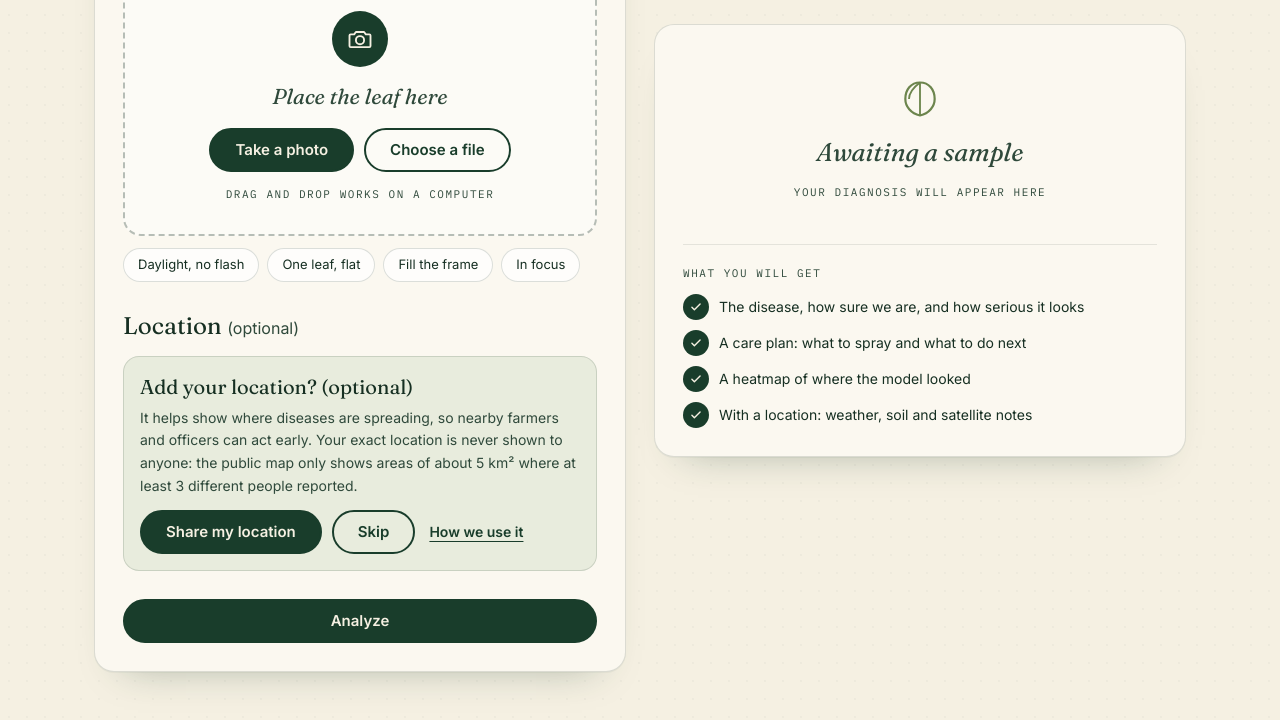
Scenario: Predict page › asks for a photo before analysing
(page scrolled)
Click the button "Analyze" at x=360, y=620, box [123,598,597,642]
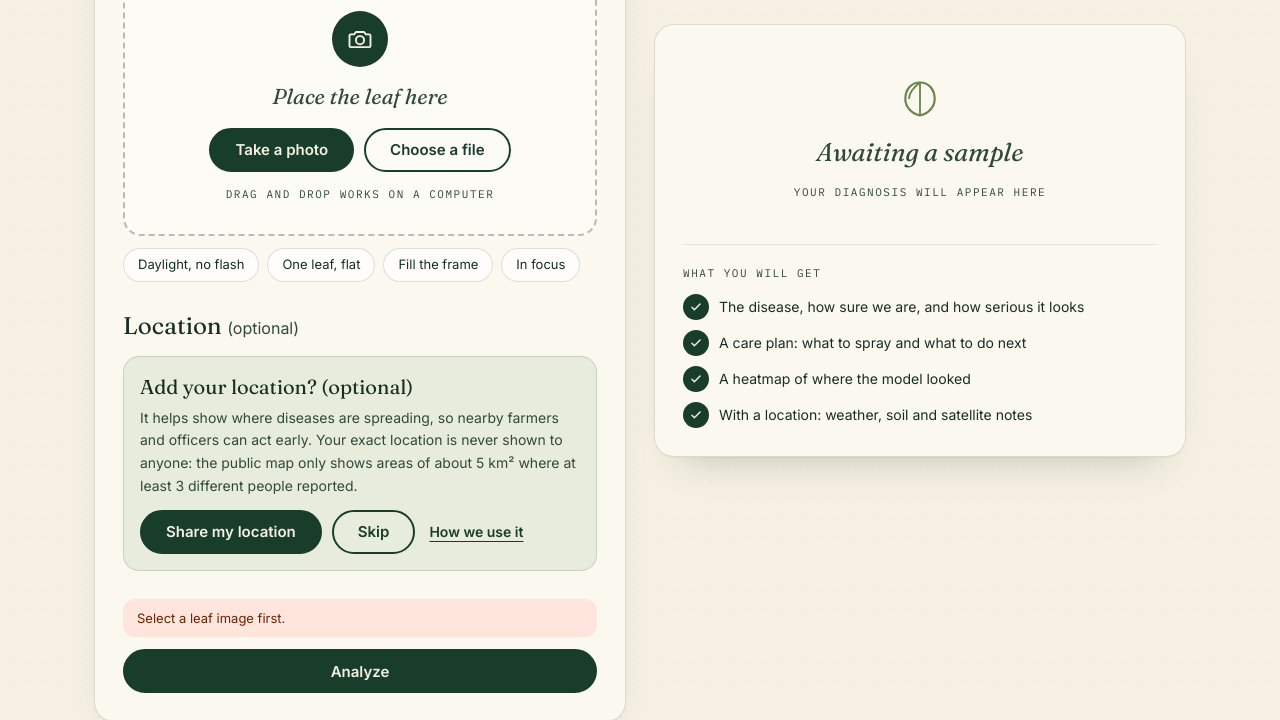
Result: the text "Select a leaf image first." is shown at [123,598,597,637]
